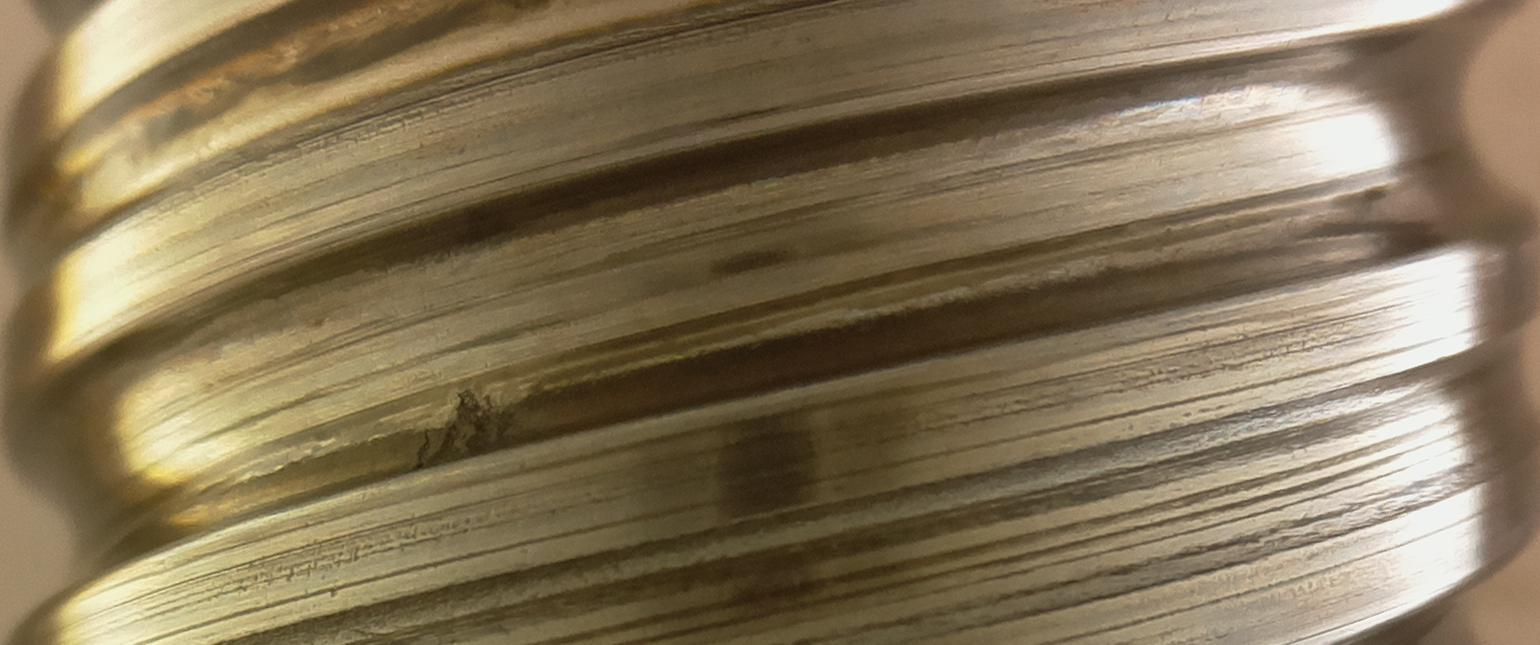pitting: (415, 388, 511, 467)
